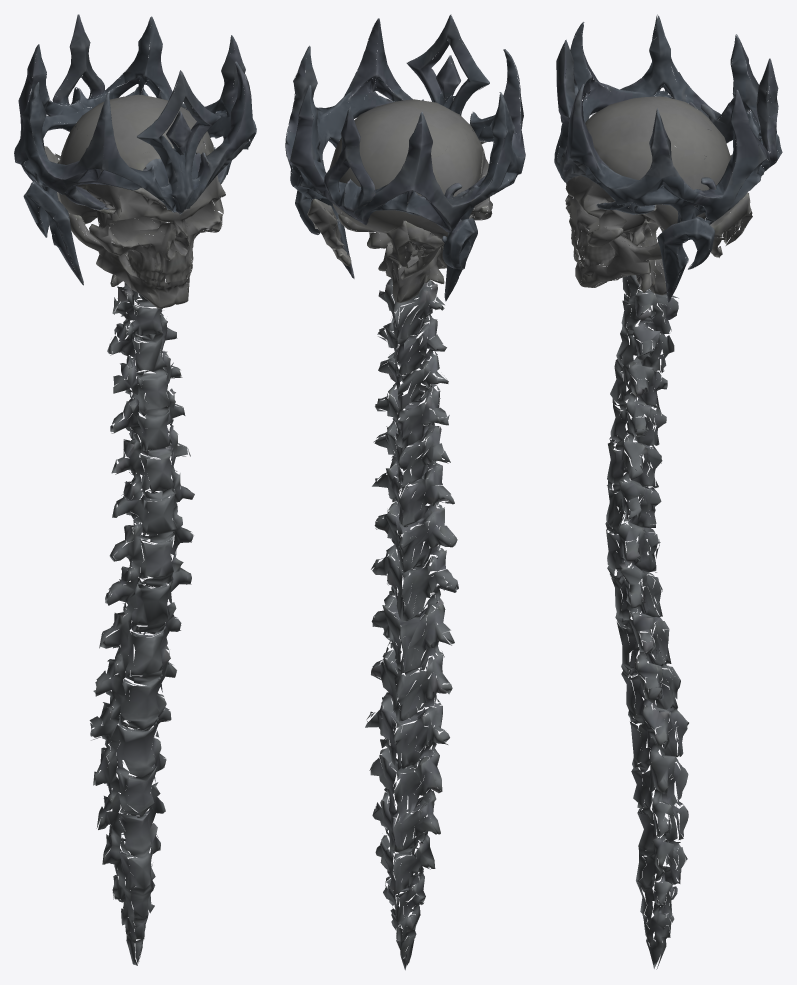
File: blackcrown-skull-mobile.glb
3 views of the same model, side by side, from view 1: azimuth 30°, elevation 25°; view 2: azimuth 150°, elevation 25°; view 3: azimuth 270°, elevation 25° (orthographic).
Parts seen in each view (by area): view 1: SPINE, CROWN, SKULL_FACE, SKULL_CRANIUM; view 2: SPINE, CROWN, SKULL_CRANIUM, SKULL_FACE, SKULL_REAR_LEFT, SKULL_REAR_RIGHT; view 3: SPINE, CROWN, SKULL_CRANIUM, SKULL_FACE, SKULL_REAR_RIGHT.
Part boxes in pixels (x1,y1,x2,y2): SPINE: [89, 270, 194, 965]; CROWN: [14, 14, 256, 285]; SKULL_FACE: [68, 147, 225, 308]; SKULL_CRANIUM: [59, 94, 213, 224]; SPINE: [365, 269, 458, 970]; CROWN: [285, 14, 525, 301]; SKULL_CRANIUM: [329, 99, 483, 239]; SKULL_FACE: [338, 140, 492, 302]; SKULL_REAR_LEFT: [386, 220, 444, 279]; SKULL_REAR_RIGHT: [307, 199, 351, 266]; SPINE: [605, 275, 688, 969]; CROWN: [554, 14, 782, 302]; SKULL_CRANIUM: [583, 96, 730, 231]; SKULL_FACE: [565, 148, 678, 295]; SKULL_REAR_RIGHT: [703, 192, 752, 257].
Size of the model in its own units: 0.0293 by 0.1199 by 0.0266.
Materials: 3 (3 with a texture image).
